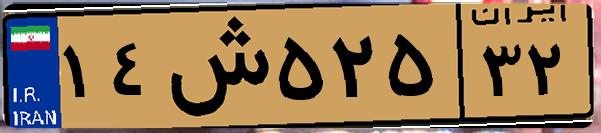1: (57, 26, 110, 100)
2: (330, 28, 385, 110), (525, 38, 570, 115)
3: (475, 38, 525, 113)
4: (110, 28, 158, 98)
5: (270, 28, 330, 110), (385, 28, 445, 110)
ش: (158, 12, 270, 120)
